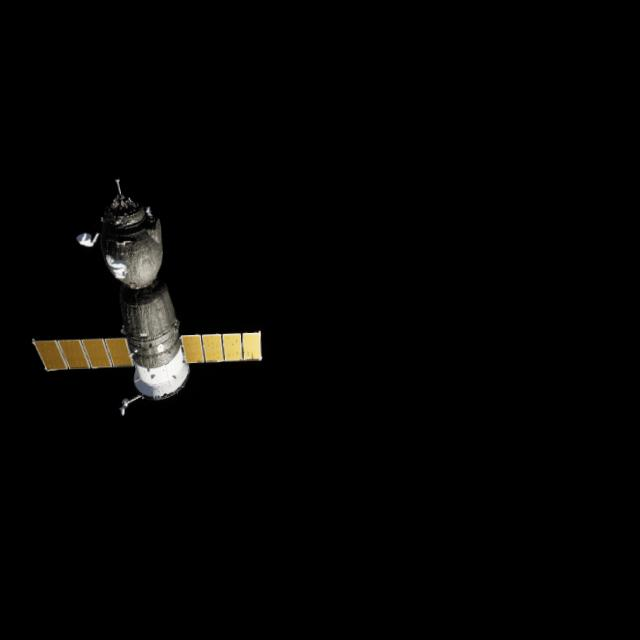Satellites revolving around earth: (24, 170, 266, 420)
